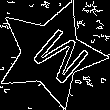M_SW: (16, 20, 85, 88)
